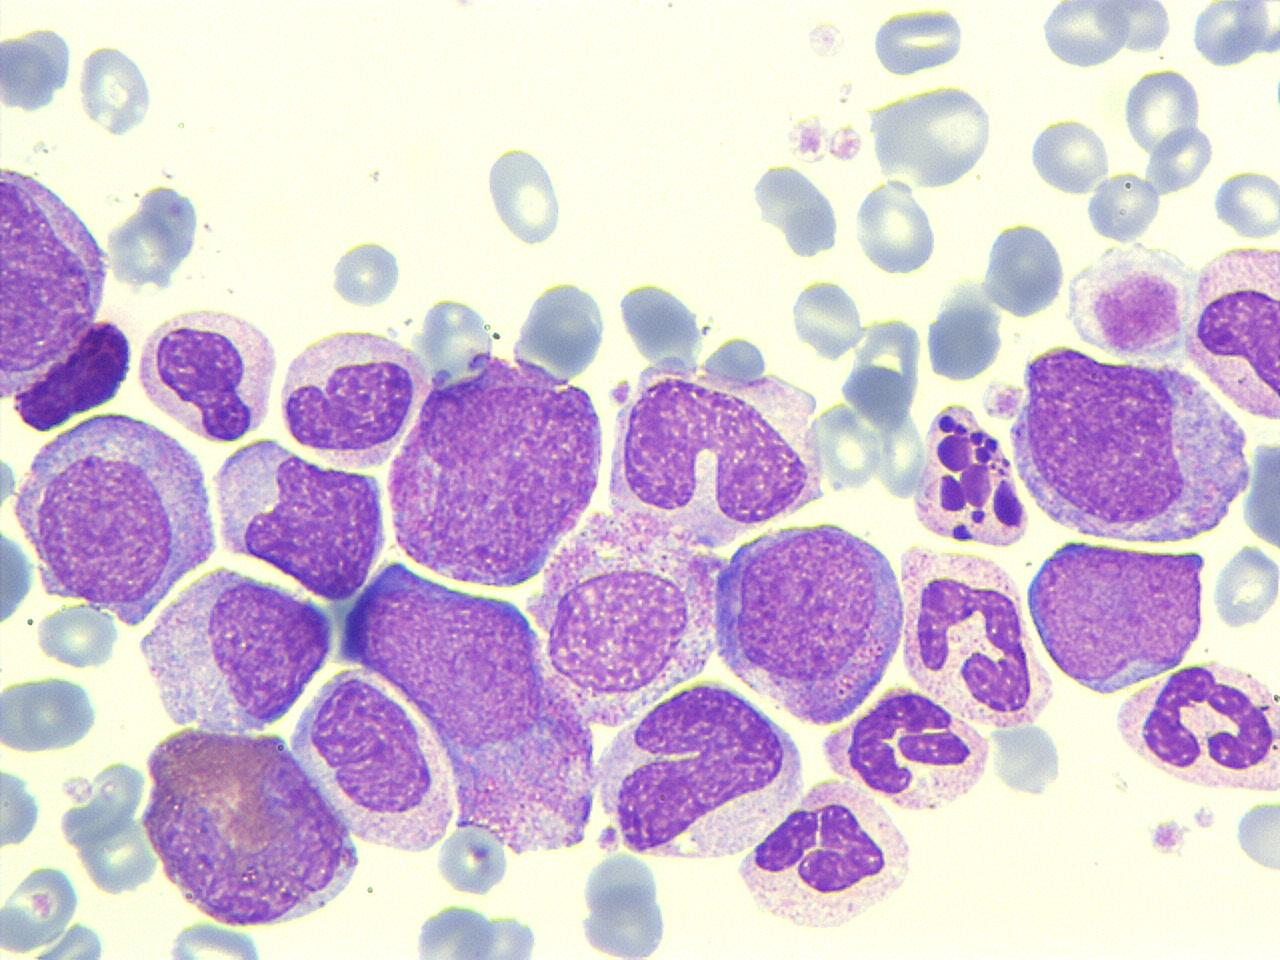Platelets: (574, 849, 670, 958), (871, 7, 967, 77), (325, 237, 404, 311), (1086, 171, 1164, 244), (1190, 1, 1270, 70), (1232, 796, 1280, 878), (1145, 814, 1189, 860), (786, 116, 827, 161), (0, 451, 20, 513), (609, 377, 634, 406), (1269, 68, 1280, 120)
RBC: (704, 0, 1268, 347), (868, 81, 994, 190), (978, 218, 1068, 320), (484, 141, 564, 250), (0, 672, 103, 755), (854, 176, 939, 276), (924, 285, 1005, 385), (1, 858, 82, 956), (76, 40, 155, 138), (1123, 65, 1203, 161), (1, 19, 76, 116), (1027, 114, 1111, 197), (868, 6, 964, 78), (788, 276, 866, 362), (1212, 538, 1280, 634), (1039, 0, 1131, 69), (1084, 169, 1164, 245), (1187, 2, 1277, 69), (33, 600, 119, 670), (327, 236, 404, 312), (1241, 423, 1280, 568), (1211, 166, 1279, 241), (158, 919, 277, 959), (1, 516, 38, 642), (1093, 0, 1173, 56), (0, 756, 43, 855), (1231, 794, 1279, 880)
WBC: (380, 348, 609, 595), (1006, 346, 1254, 553), (135, 717, 363, 935), (7, 407, 220, 621), (603, 346, 830, 538), (710, 515, 908, 727), (593, 674, 803, 868), (1, 154, 138, 435), (134, 564, 336, 741), (288, 666, 463, 862), (891, 542, 1056, 734), (1020, 532, 1210, 697), (207, 435, 391, 602), (732, 774, 918, 938), (1109, 653, 1280, 799), (273, 321, 428, 473), (830, 683, 996, 816), (132, 299, 282, 446), (907, 399, 1035, 552), (1181, 239, 1280, 428), (1067, 240, 1191, 360), (101, 180, 207, 295), (748, 161, 844, 262), (979, 218, 1067, 320), (0, 672, 104, 756), (401, 904, 554, 960), (924, 285, 1006, 385), (75, 40, 157, 138), (0, 22, 73, 117), (1240, 432, 1280, 555)
